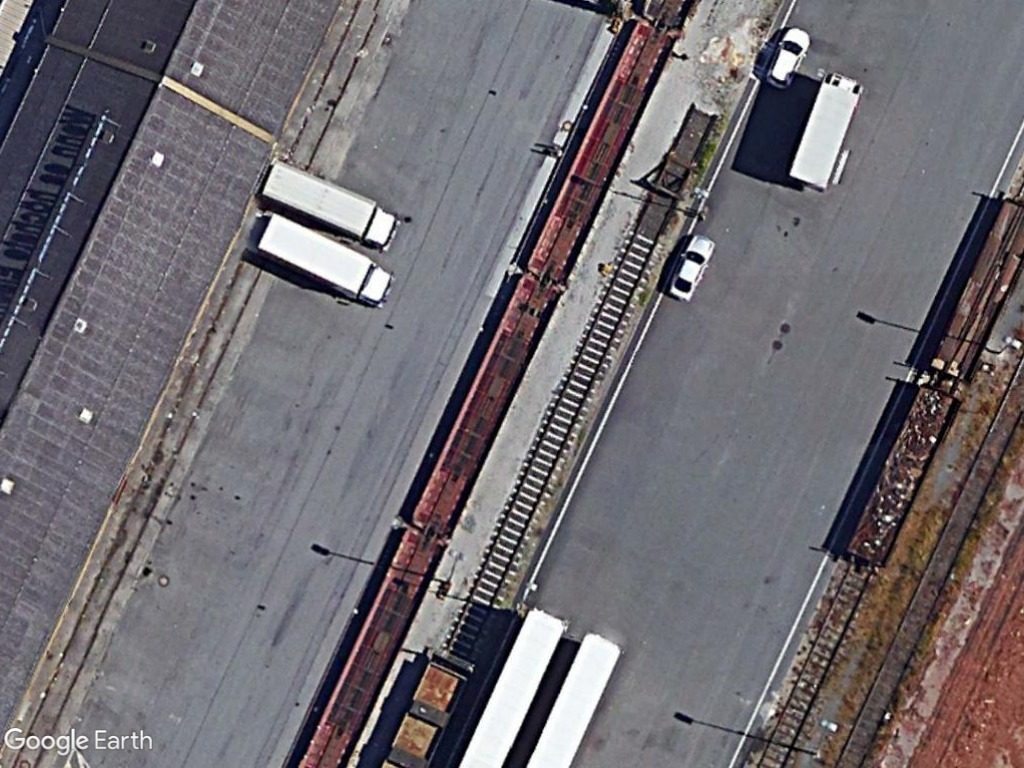car: (664, 230, 720, 305), (761, 21, 815, 92)
truck: (246, 208, 397, 311), (258, 153, 404, 255)
